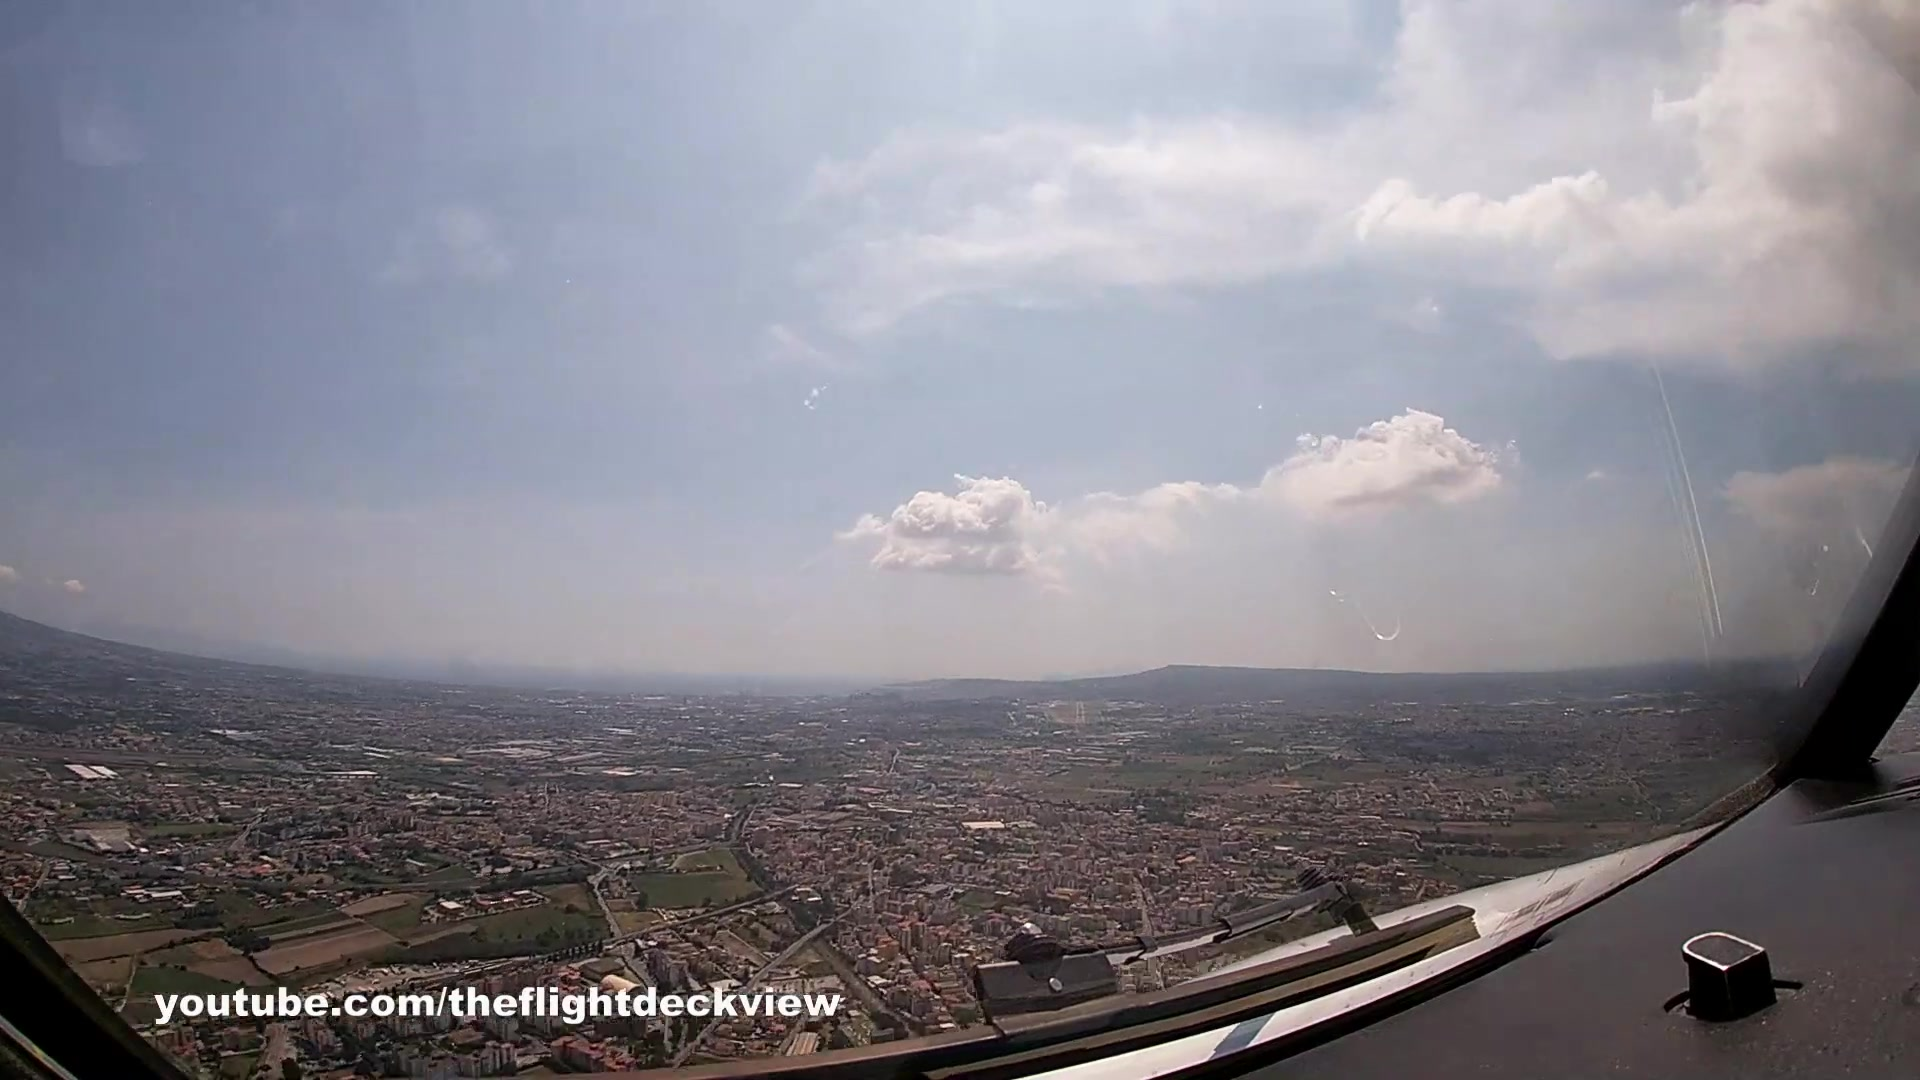runway: (1072, 700, 1089, 727)
